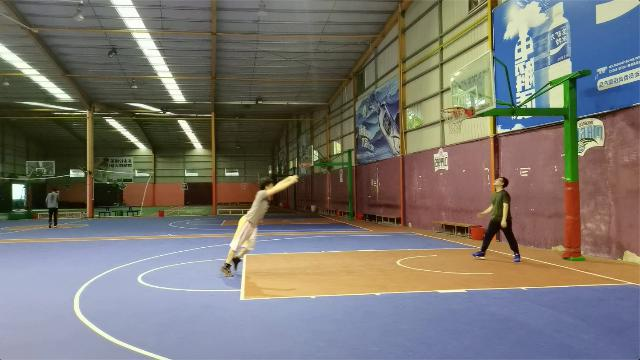basket: (440, 105, 464, 132)
